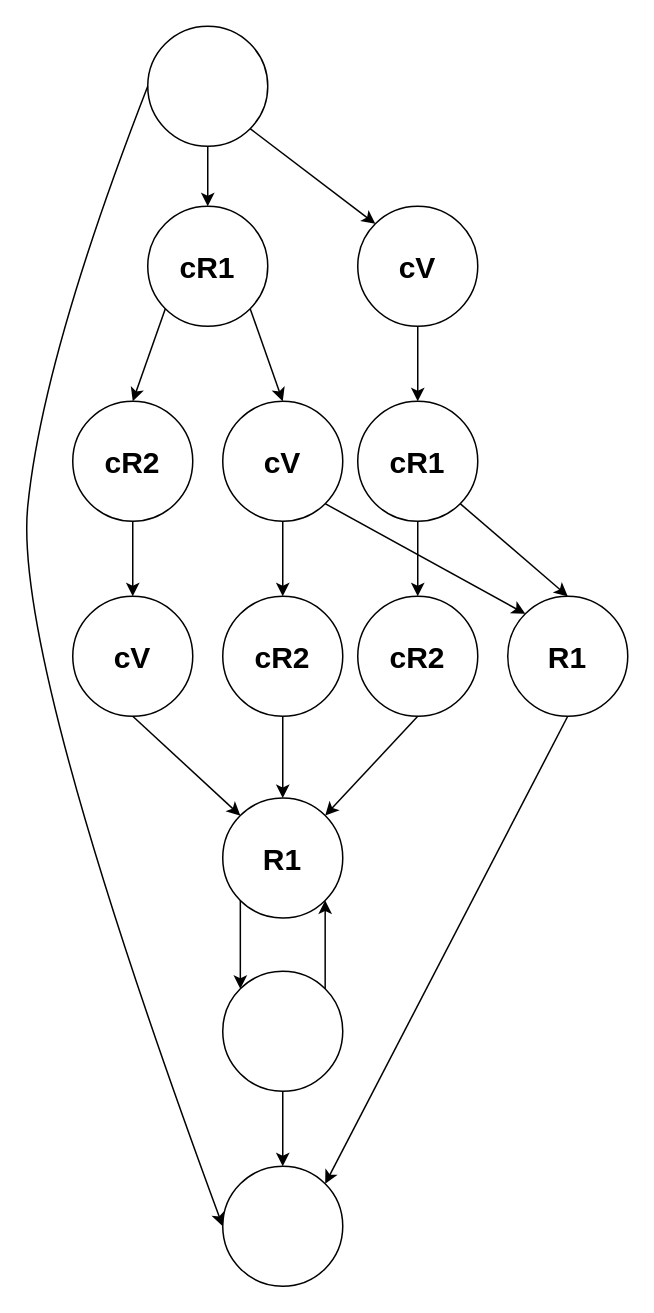
The diagram is 654 pixels wide and 1313 high, and some of its shapes have lost their labels. Here are the shapes that lost their labels. From the top down, the box of each, then its label:
(146, 25, 268, 146): [CLS]
(221, 970, 343, 1091): R2
(221, 1165, 343, 1286): [SEP]
